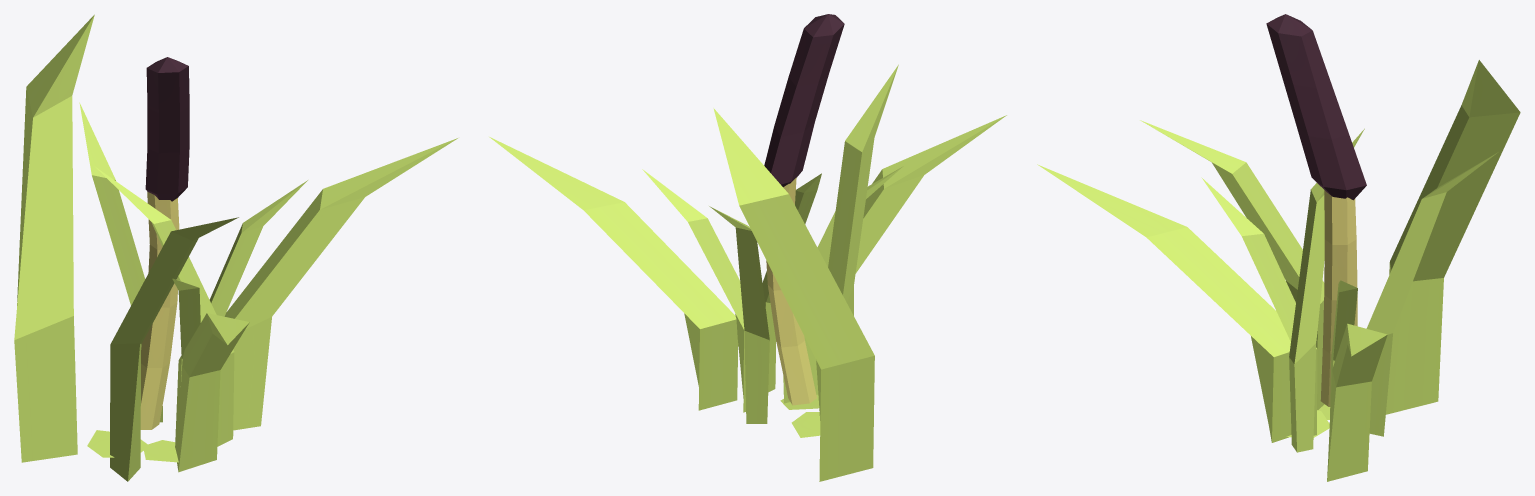
Rendered from kamysh3.fbx.
3 views of the same model, side by side, from view 1: azimuth 30°, elevation 25°; view 2: azimuth 150°, elevation 25°; view 3: azimuth 270°, elevation 25° (orthographic). The views are drawn at different scales.
Parts seen in each view (by area): view 1: Cone.009; view 2: Cone.009; view 3: Cone.009.
Boxes of the visible parts, x1,y1,x2,y2 form: Cone.009: [14, 14, 457, 481]; Cone.009: [489, 14, 1006, 481]; Cone.009: [1037, 14, 1520, 481].
Size of the model in its own units: 59.68 by 56.5 by 58.71.
